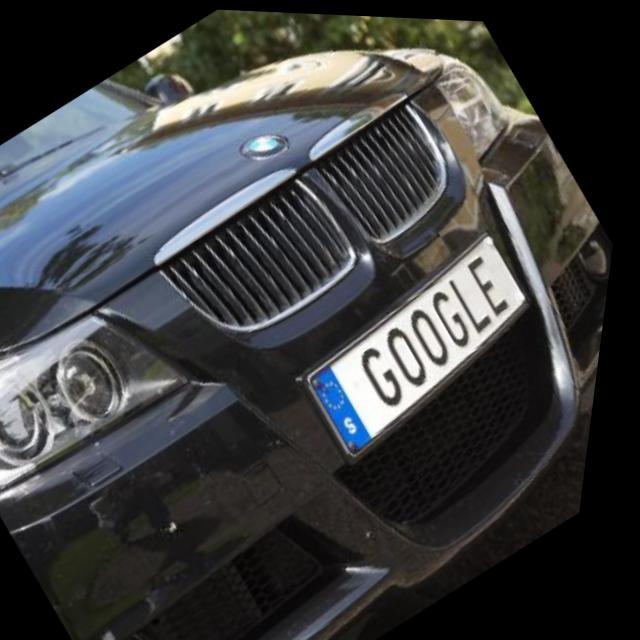license_plate: (277, 214, 573, 472)
